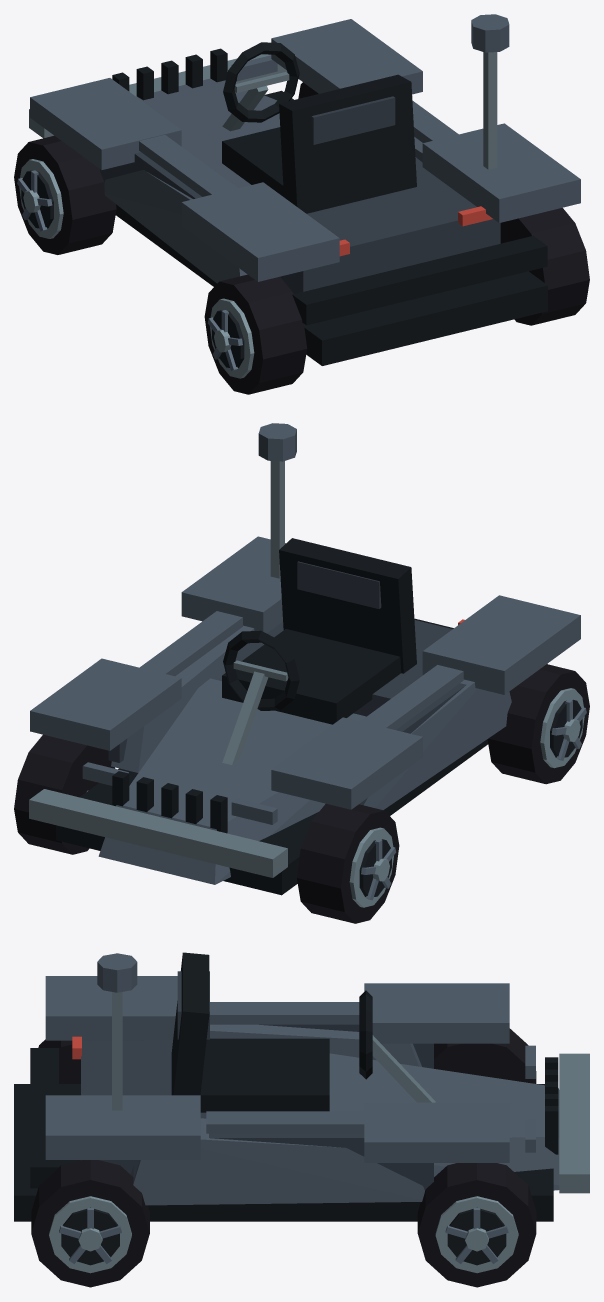
Rendered from kart.glb.
3 views of the same model, one above another, from view 1: azimuth 30°, elevation 25°; view 2: azimuth 150°, elevation 25°; view 3: azimuth 270°, elevation 25° (orthographic).
Parts seen in each view (by area): view 1: chassis, wheel-rear-left, wheel-front-left, wheel-rear-right; view 2: chassis, wheel-front-left, wheel-rear-left, wheel-front-right; view 3: chassis, wheel-rear-right, wheel-front-right, wheel-front-left, wheel-rear-left.
Boxes of the visible parts, x1,y1,x2,y2 form: chassis: (29, 14, 580, 365); wheel-rear-left: (204, 274, 307, 394); wheel-front-left: (14, 135, 116, 254); wheel-rear-right: (500, 207, 589, 325); chassis: (29, 423, 580, 895); wheel-front-left: (296, 803, 399, 923); wheel-rear-left: (487, 664, 589, 784); wheel-front-right: (14, 734, 115, 854); chassis: (14, 952, 589, 1221); wheel-rear-right: (31, 1160, 149, 1287); wheel-front-right: (417, 1163, 536, 1287); wheel-front-left: (434, 1028, 536, 1083); wheel-rear-left: (38, 1039, 80, 1083).
Bounding box in the file's own units: 2.17 × 1.72 × 3.01.
